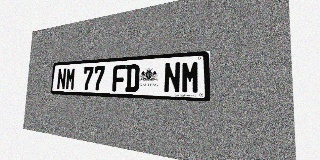7: (82, 66, 94, 91), (93, 66, 105, 91)
D: (125, 64, 140, 92)
F: (112, 65, 126, 92)
M: (181, 61, 200, 94), (65, 67, 76, 90)
N: (163, 62, 181, 93), (56, 68, 67, 90)
